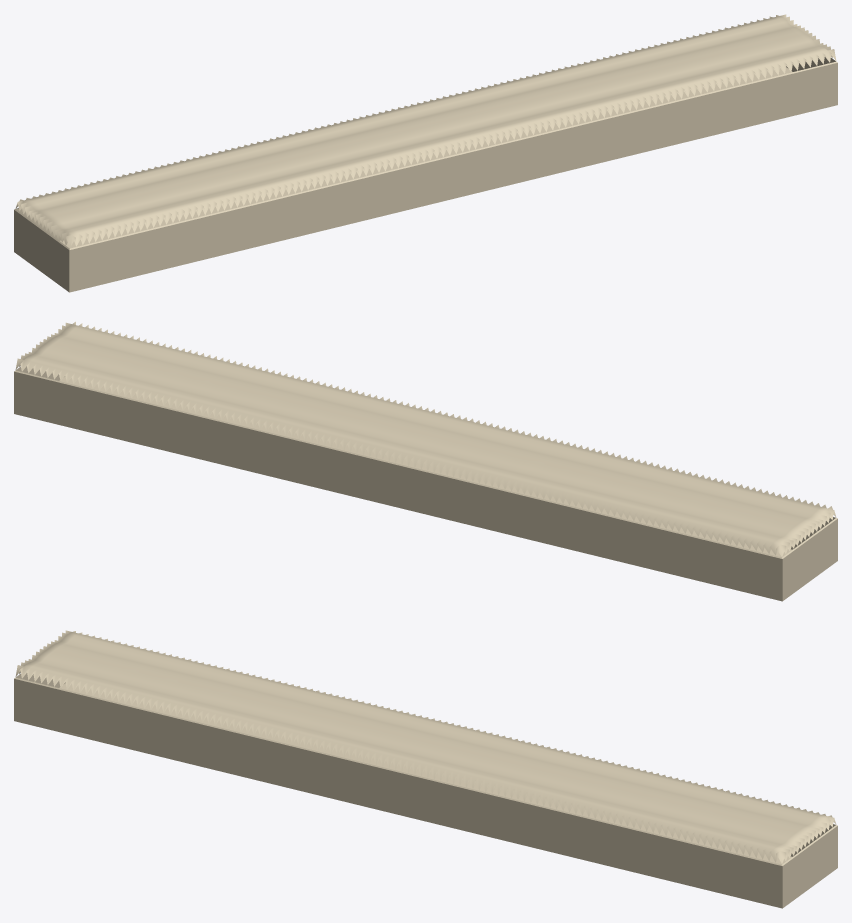
File: mahsulot.glb
3 renders of one model, top to bottom at view 1: azimuth 30°, elevation 25°; view 2: azimuth 150°, elevation 25°; view 3: azimuth 330°, elevation 25°, orthographic.
Parts seen in each view (by area): view 1: mahsulot; view 2: mahsulot; view 3: mahsulot.
Part boxes in pixels (bbox=[...]): mahsulot: bbox=[14, 14, 837, 292]; mahsulot: bbox=[14, 321, 837, 601]; mahsulot: bbox=[14, 630, 837, 908].
Size of the model in its own units: 1.2 by 0.0798 by 0.15.
